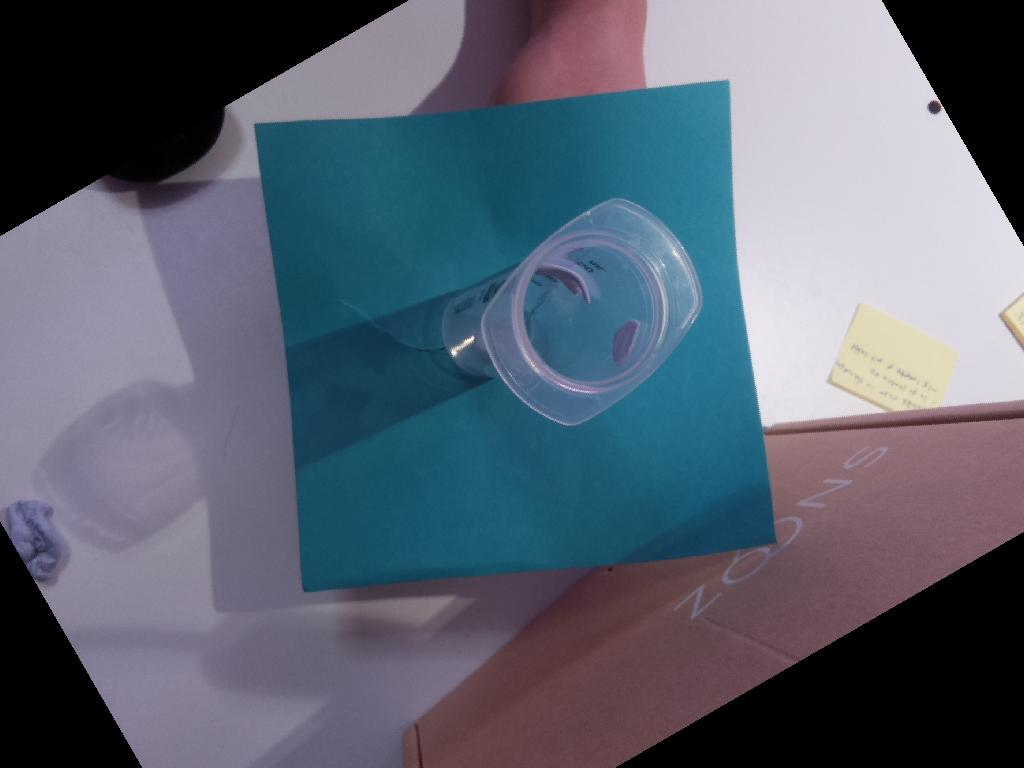dirty: (480, 197, 702, 426)
